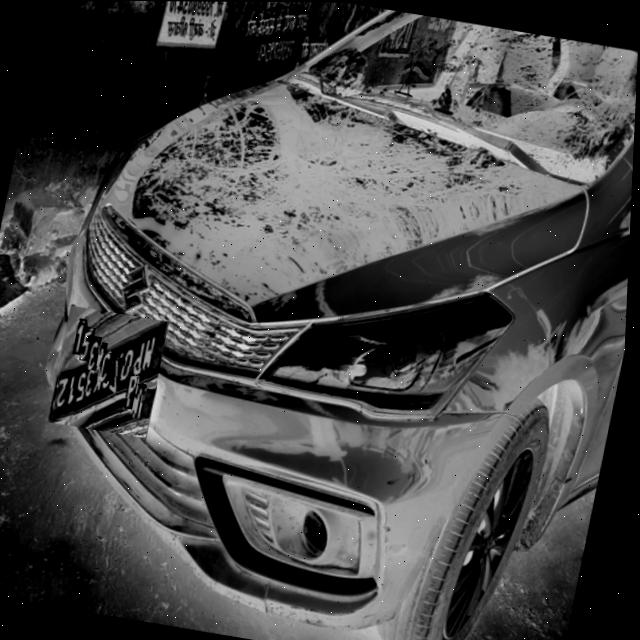0: (118, 365, 135, 403)
1: (75, 322, 89, 355)
2: (66, 317, 80, 353)
3: (89, 339, 104, 371)
5: (82, 329, 98, 361)
7: (111, 359, 127, 394)
C: (103, 352, 117, 383)
IND: (144, 388, 158, 416)
Indian_registered: (55, 322, 171, 419)
K: (95, 345, 109, 377)
M: (133, 383, 149, 418)
P: (127, 376, 142, 411)
